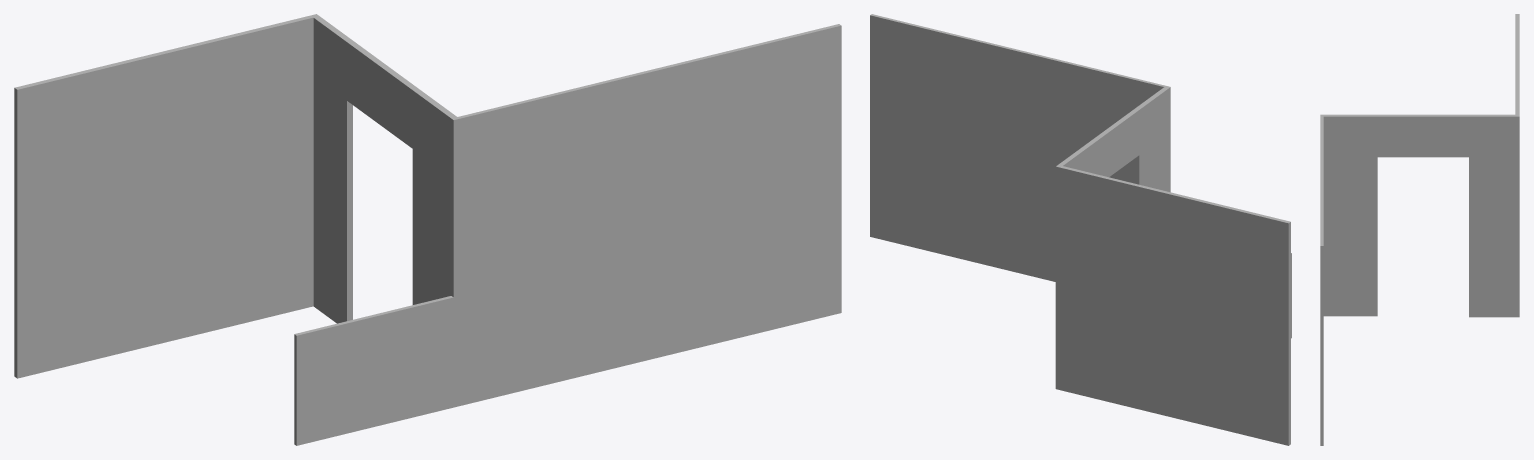
3 views of the same model, side by side, from view 1: azimuth 30°, elevation 25°; view 2: azimuth 150°, elevation 25°; view 3: azimuth 270°, elevation 25° (orthographic). The views are drawn at different scales.
Visible parts, largest first — view 1: pCube90; view 2: pCube90; view 3: pCube90.
Part boxes in pixels (x1,y1,x2,y2): pCube90: [14, 14, 841, 445]; pCube90: [870, 14, 1291, 445]; pCube90: [1320, 14, 1519, 445].
Size of the model in its own units: 746 by 301 by 270.
Materials: 1 (1 with a texture image).
